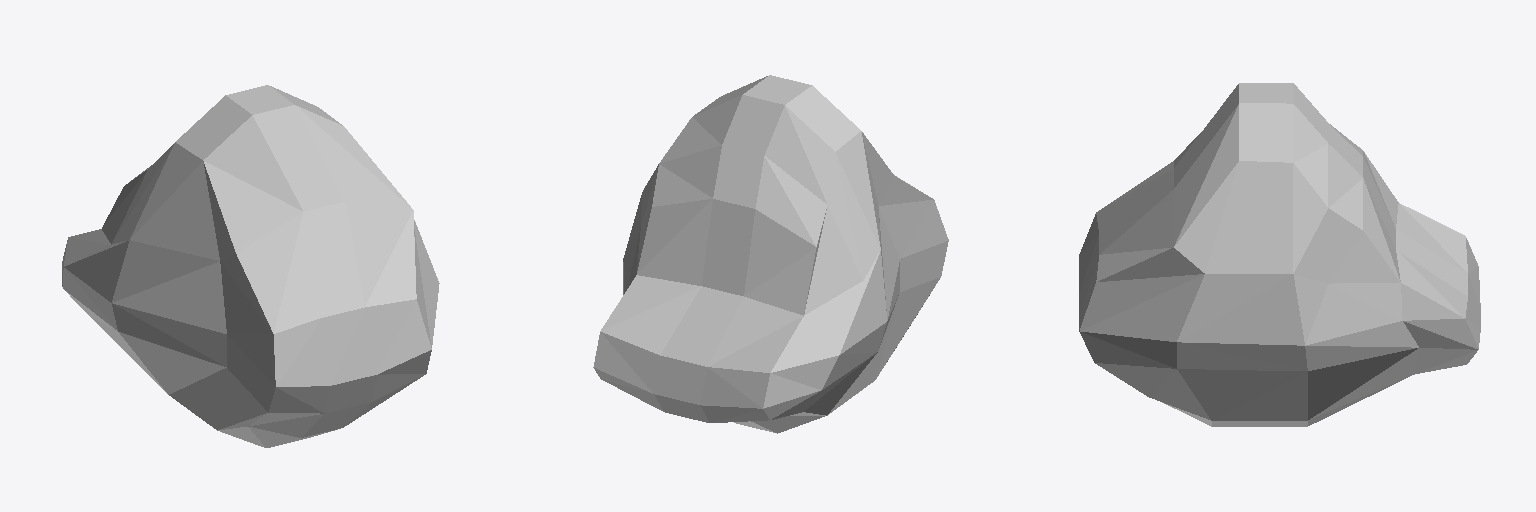
Rendered from monolith_08.obj.
3 views of the same model, side by side, from view 1: azimuth 30°, elevation 25°; view 2: azimuth 150°, elevation 25°; view 3: azimuth 270°, elevation 25° (orthographic).
Visible parts, largest first — view 1: Cube_Cube; view 2: Cube_Cube; view 3: Cube_Cube.
Part boxes in pixels (left/top/right/bottom): Cube_Cube: left=62, top=85, right=439, bottom=447; Cube_Cube: left=593, top=75, right=948, bottom=433; Cube_Cube: left=1079, top=83, right=1480, bottom=426.
Size of the model in its own units: 375 by 439 by 494.